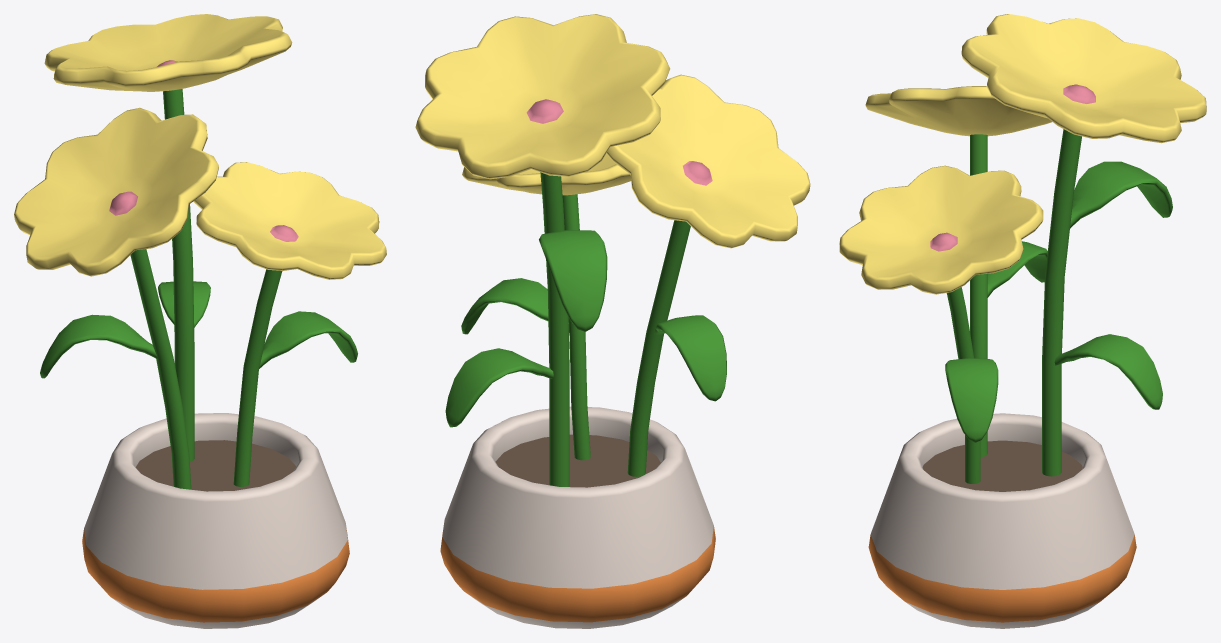
The model's file is Flower_1.glb.
3 renders of one model, left to right at view 1: azimuth 30°, elevation 25°; view 2: azimuth 150°, elevation 25°; view 3: azimuth 270°, elevation 25°, orthographic. The views are drawn at different scales.
Visible parts, largest first — view 1: Flower_5; view 2: Flower_5; view 3: Flower_5.
Part boxes in pixels (left/top/right/bottom): Flower_5: left=14, top=14, right=386, bottom=628; Flower_5: left=415, top=14, right=810, bottom=628; Flower_5: left=839, top=14, right=1206, bottom=628.
Size of the model in its own units: 1.11 by 1.76 by 1.08.
1 material, 1 textured.
